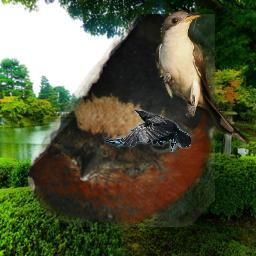Crow: (103, 109, 191, 152)
Cuckoo: (155, 10, 251, 149)
Swallow: (28, 14, 215, 227)
